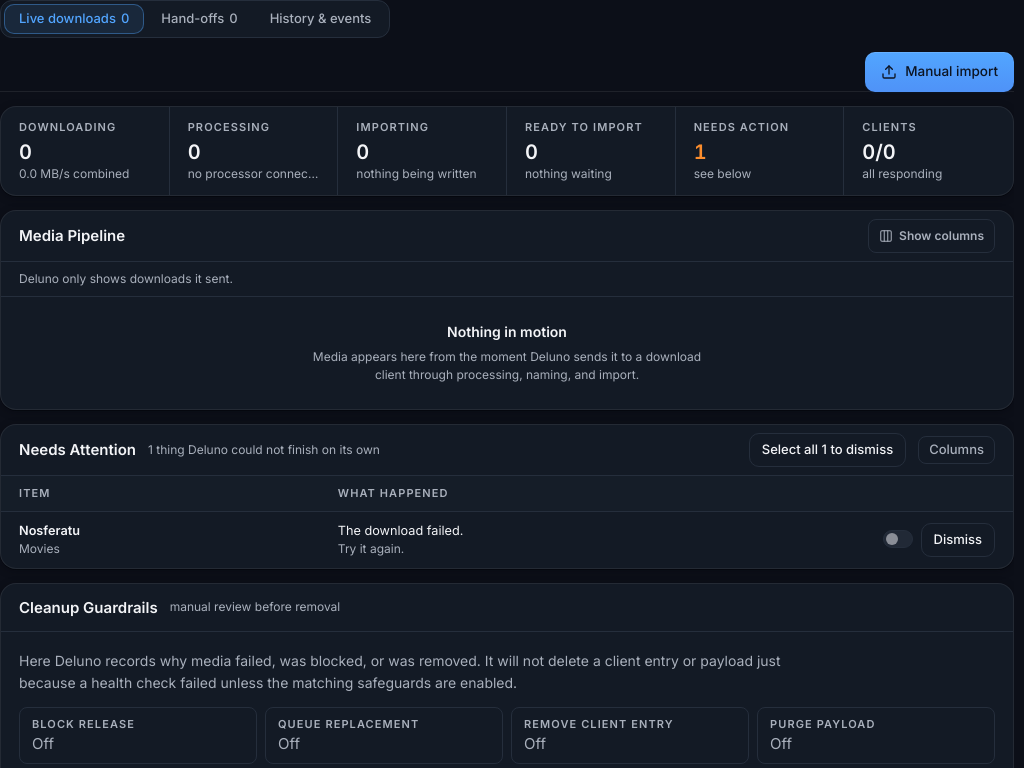
In progress: the attention drawer of a row with no drawer of its own › a recovery case lists what happened and what to do
The image size is (1024, 768).
Click the text "Nosferatu": (49, 531) [19,523,80,538]
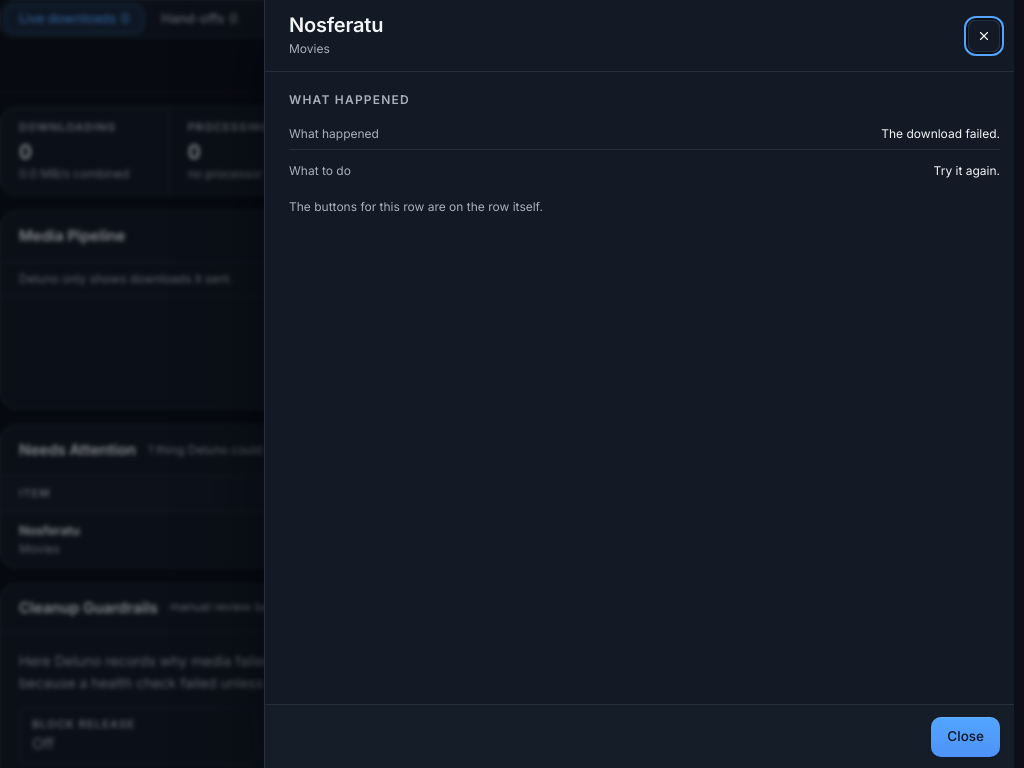
expect the 1st text "What happened" is shown: met, box [289,92,410,107]
expect the text "The download failed." is shown: met, box [881,125,1000,143]
expect the text "What to do" is shown: met, box [289,162,351,180]
